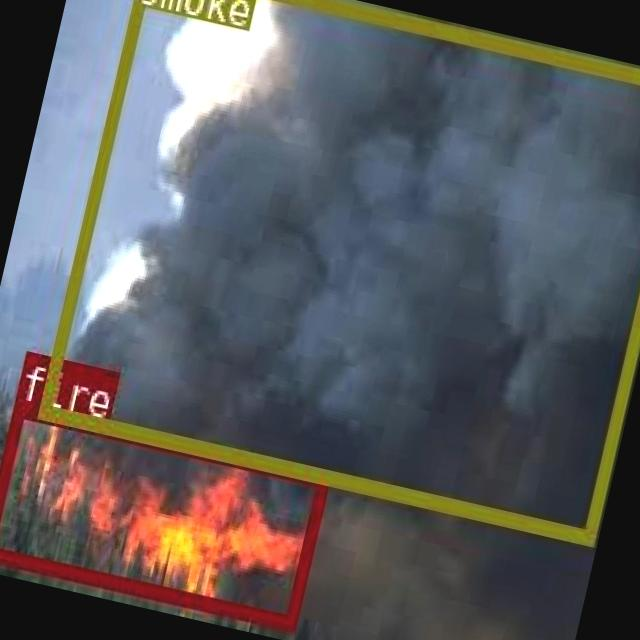fire: (0, 398, 327, 629)
smoke: (35, 0, 640, 543)
